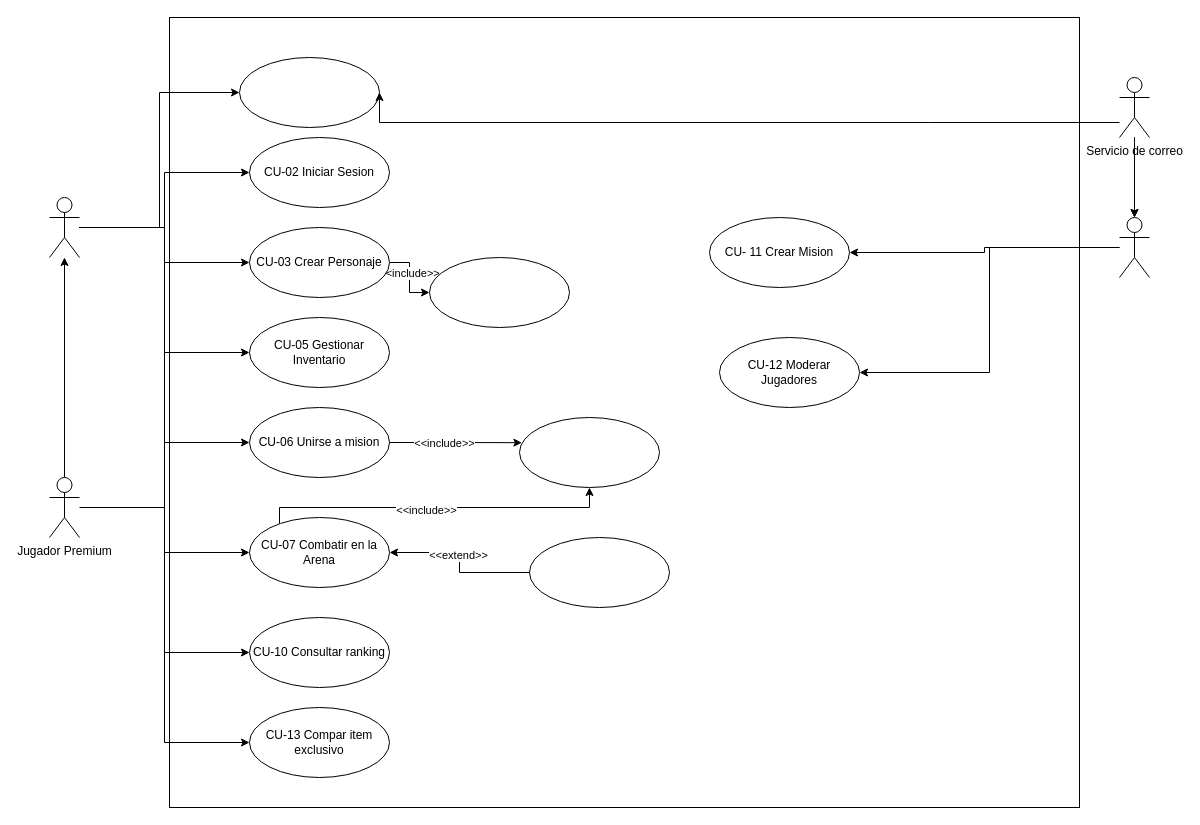
Image size: 1200x825. Some labels were removed from this diagram. Each missing label, with the box of its shape:
CU-01 Registrarse: (238, 56, 380, 128)
CU-04 Elegir Clase: (428, 256, 570, 328)
CU-08 Validar Personaje vivo: (518, 416, 660, 488)
CU-09 Usar Pocion: (528, 536, 670, 608)
Game master: (1118, 216, 1150, 278)
Jugador: (48, 196, 80, 258)
